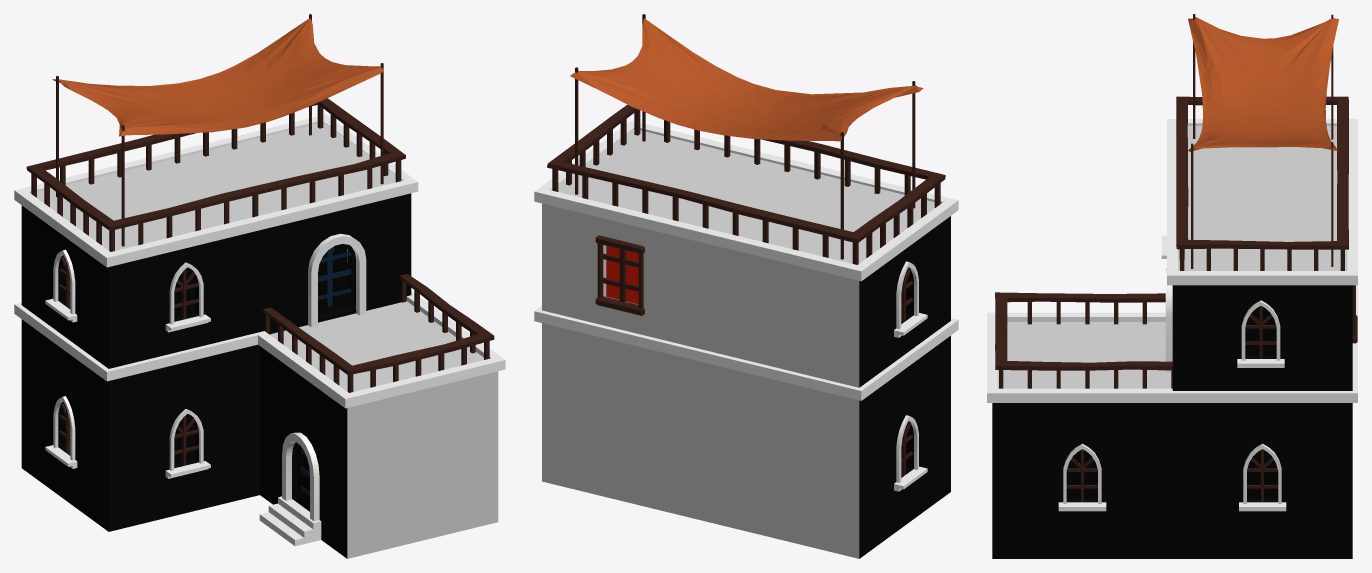
The model's file is civilian_house_33_f.FBX.
3 views of the same model, side by side, from view 1: azimuth 30°, elevation 25°; view 2: azimuth 150°, elevation 25°; view 3: azimuth 270°, elevation 25° (orthographic). The views are drawn at different scales.
Parts seen in each view (by area): view 1: civilian_house_33_f; view 2: civilian_house_33_f; view 3: civilian_house_33_f.
Boxes of the visible parts, x1=… form: civilian_house_33_f: x1=14, y1=14, x2=505, y2=558; civilian_house_33_f: x1=534, y1=14, x2=958, y2=558; civilian_house_33_f: x1=987, y1=14, x2=1357, y2=558.
Size of the model in its own units: 1061 by 1240 by 1030.
